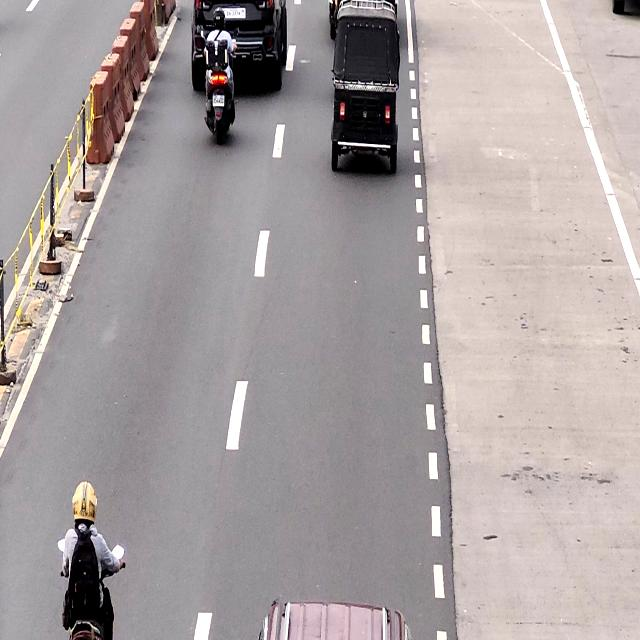Car: (189, 0, 289, 84), (253, 595, 411, 640)
License-Plate: (210, 93, 226, 108)
Motorcycle: (56, 483, 114, 640), (203, 11, 237, 138)
